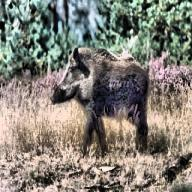boar: (50, 46, 150, 155)
